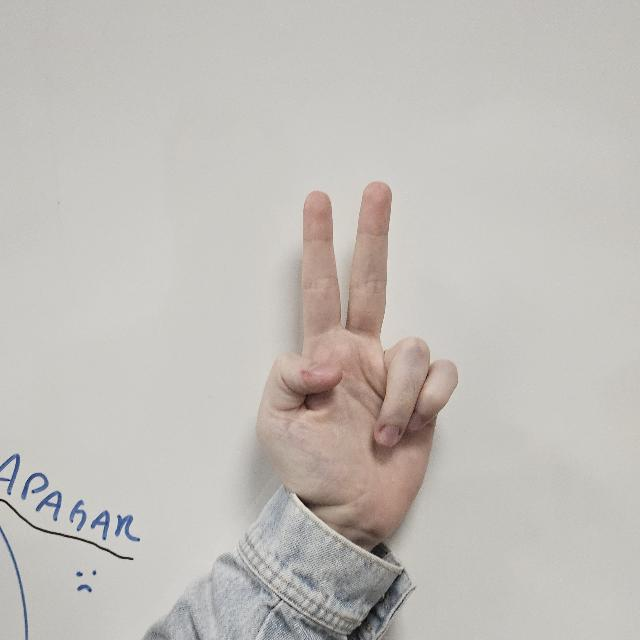Triangulo: (258, 183, 458, 553)
